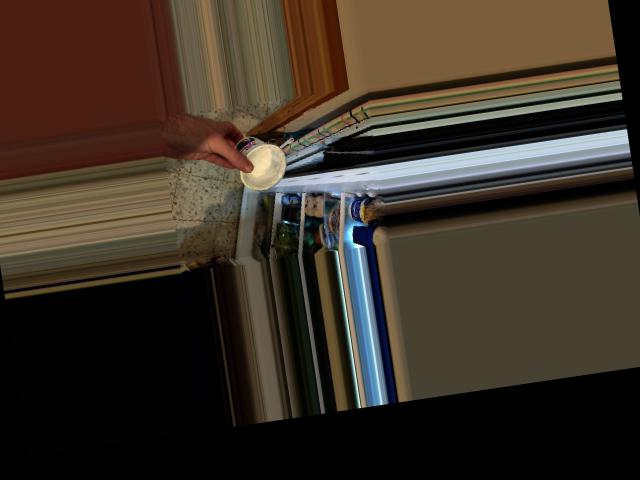cotage: (227, 128, 295, 194)
